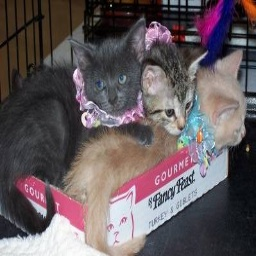cat: (1, 28, 254, 242)
